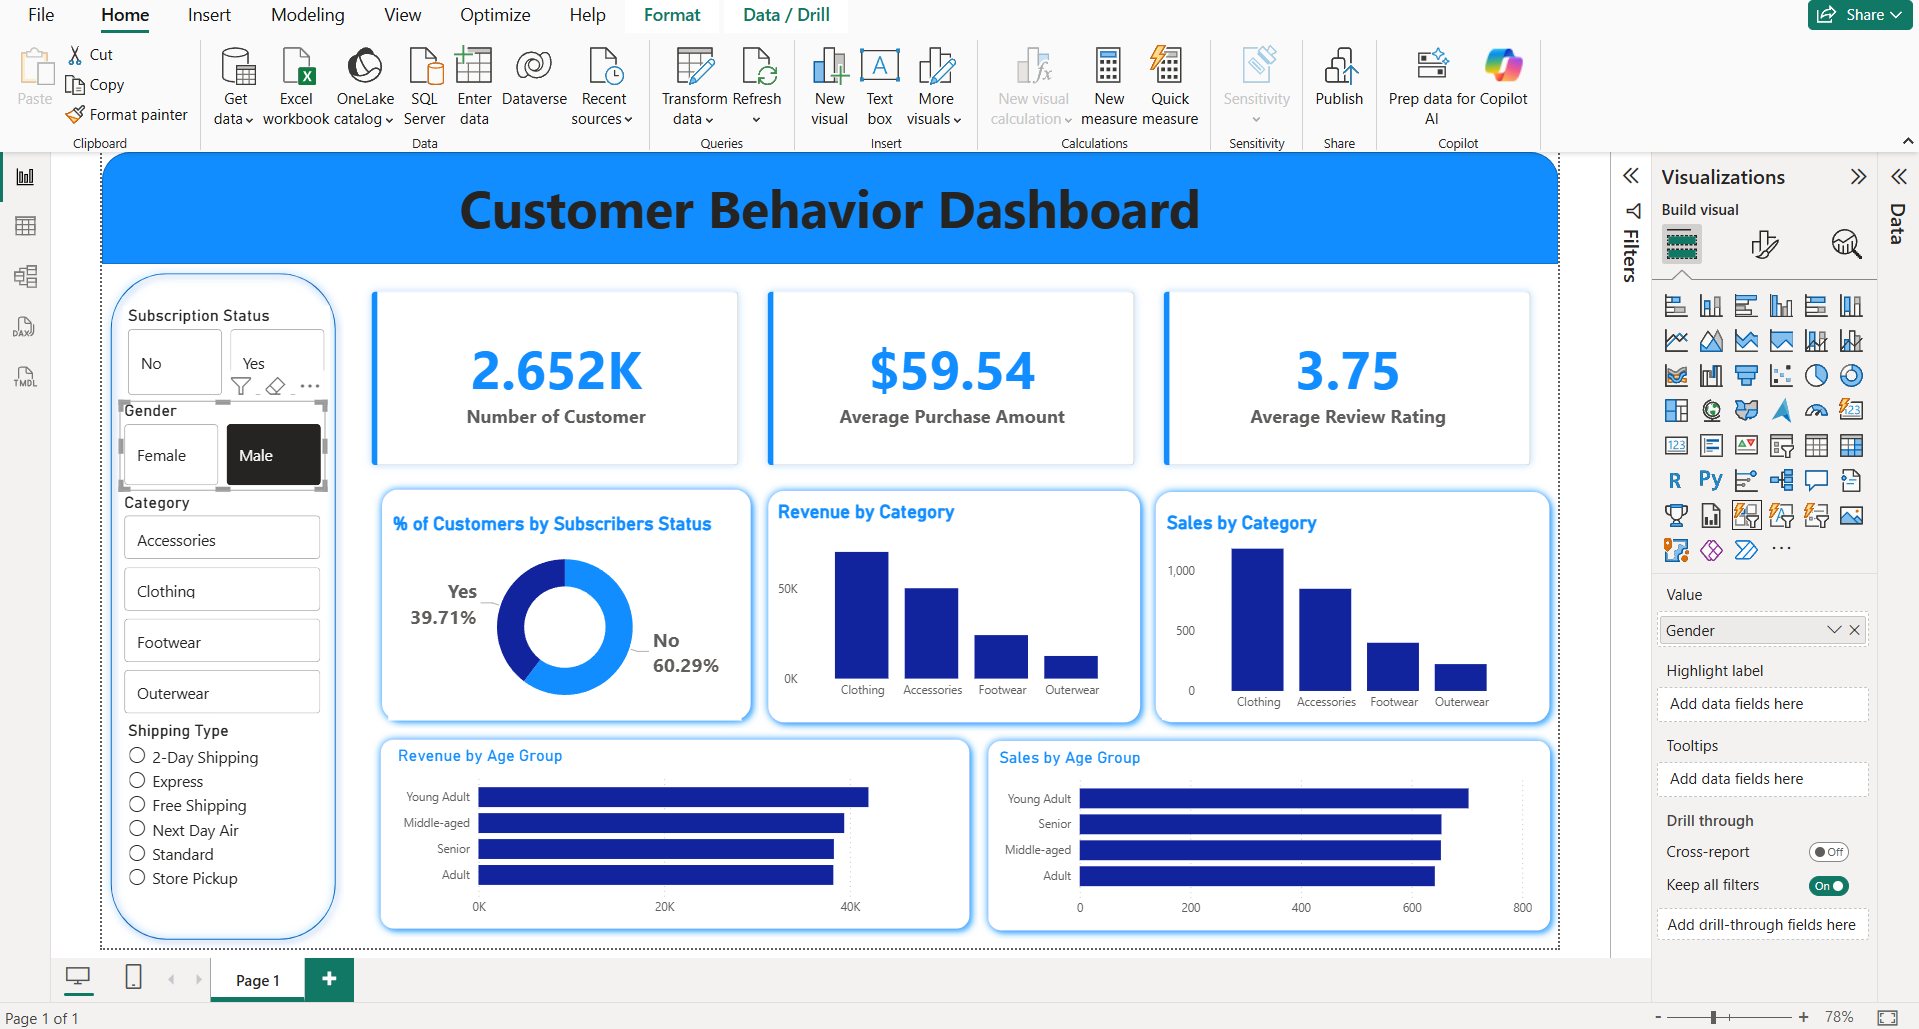

The page's visual inventory and layout, read from the dashboard file:
{"tool":"powerbi","page":{"name":"Page 1","canvas":[1500,820],"ordinal":0},"visuals":[{"type":"cardVisual","fields":{"Data":["public customer.Number of Customer","public customer.Average Purchase Amount","public customer.Average Review Rating"]},"box":[250.3,115.5,1250,235.9],"z":0},{"type":"shape","box":[0,0,1500.3,115.3],"z":1000},{"type":"textbox","box":[0,16,1500.3,84.9],"z":2000},{"type":"shape","box":[279.2,338.6,397.9,255.1],"z":3000},{"type":"donutChart","title":"% of Customers by Subscribers Status","fields":{"Category":["public customer.subscription_status"],"Y":["CountNonNull(public customer.customer_id)"]},"box":[295.3,372.3,364.3,213.4],"z":4000},{"type":"shape","box":[1076.7,341.8,423.6,255.1],"z":5000},{"type":"shape","box":[677.2,340.2,401.2,256.7],"z":6000},{"type":"clusteredColumnChart","title":"Revenue by Category","fields":{"Y":["Sum(public customer.purchase_amount)"],"Category":["public customer.category"]},"box":[691.6,359.4,370.7,213.4],"z":7000},{"type":"clusteredColumnChart","title":"Sales by Category","fields":{"Category":["public customer.category"],"Y":["CountNonNull(public customer.customer_id)"]},"box":[1092,371.5,369.9,214.6],"z":8000},{"type":"shape","box":[0,115.3,249.8,704.5],"z":9000},{"type":"advancedSlicerVisual","fields":{"Values":["public customer.subscription_status"]},"box":[22.4,158.5,213,97.7],"z":10000},{"type":"advancedSlicerVisual","fields":{"Values":["public customer.gender"]},"box":[17.6,256.2,213,92.9],"z":11000},{"type":"advancedSlicerVisual","fields":{"Values":["public customer.category"]},"box":[17.6,350.7,213,235.4],"z":12000},{"type":"listSlicer","fields":{"Values":["public customer.shipping_type"]},"box":[22.5,585.7,213.4,234.3],"z":13000},{"type":"shape","box":[903.4,596.9,596.9,213.4],"z":14000},{"type":"shape","box":[278.6,595.6,624.5,213],"z":15000},{"type":"clusteredBarChart","title":"Revenue by Age Group","fields":{"Y":["Sum(public customer.purchase_amount)"],"Category":["public customer.age_group"]},"box":[299.4,611.7,581.2,184.1],"z":16000},{"type":"clusteredBarChart","title":"Sales by Age Group ","fields":{"Y":["CountNonNull(public customer.customer_id)"],"Category":["public customer.age_group"]},"box":[919.1,613.3,558.8,184.1],"z":17000}]}

Visuals, with their boxes on the page's 1500x820 design canvas (x1, y1, x2, y2). These are canvas units, not pixel positions in the 1919x1029 screenshot, which may show the page scaled, cropped or inside an application window:
cardVisual - public customer.Number of Customer x public customer.Average Purchase Amount: select_region(250, 116, 1500, 351)
shape: select_region(0, 0, 1500, 115)
textbox: select_region(0, 16, 1500, 101)
shape: select_region(279, 339, 677, 594)
"% of Customers by Subscribers Status" donutChart: select_region(295, 372, 660, 586)
shape: select_region(1077, 342, 1500, 597)
shape: select_region(677, 340, 1078, 597)
"Revenue by Category" clusteredColumnChart: select_region(692, 359, 1062, 573)
"Sales by Category" clusteredColumnChart: select_region(1092, 372, 1462, 586)
shape: select_region(0, 115, 250, 820)
advancedSlicerVisual - public customer.subscription_status: select_region(22, 158, 235, 256)
advancedSlicerVisual - public customer.gender: select_region(18, 256, 231, 349)
advancedSlicerVisual - public customer.category: select_region(18, 351, 231, 586)
listSlicer - public customer.shipping_type: select_region(22, 586, 236, 820)
shape: select_region(903, 597, 1500, 810)
shape: select_region(279, 596, 903, 809)
"Revenue by Age Group" clusteredBarChart: select_region(299, 612, 881, 796)
"Sales by Age Group " clusteredBarChart: select_region(919, 613, 1478, 797)
